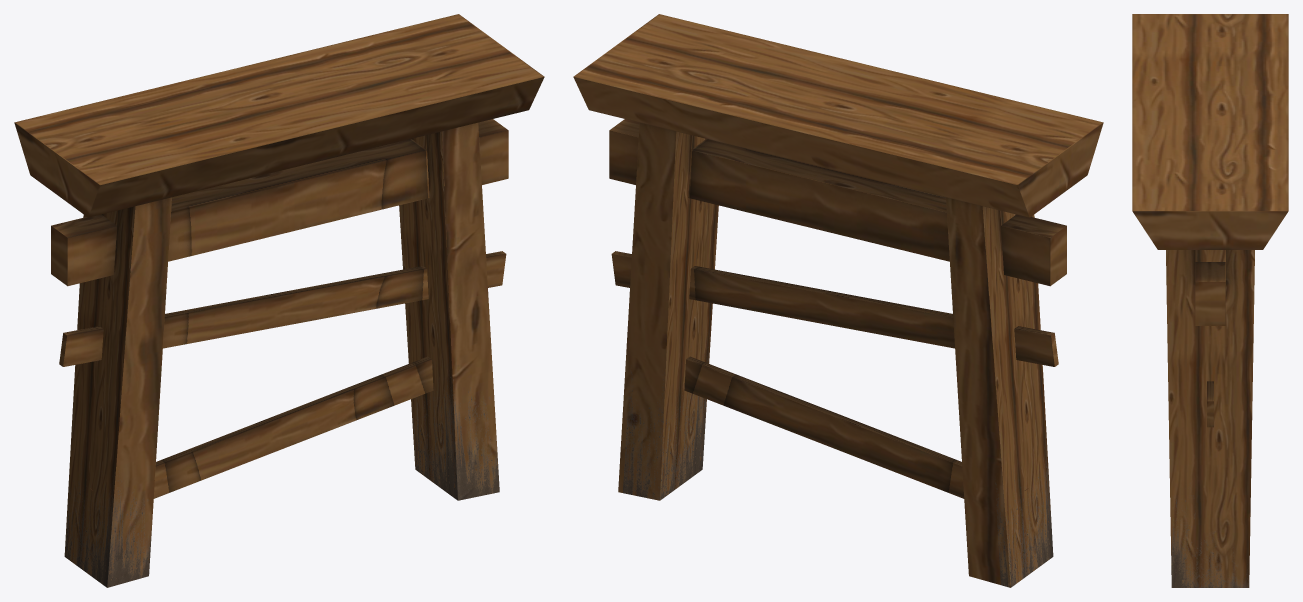
File: Wood_Support_close_destroyed.FBX
3 views of the same model, side by side, from view 1: azimuth 30°, elevation 25°; view 2: azimuth 150°, elevation 25°; view 3: azimuth 270°, elevation 25° (orthographic). The views are drawn at different scales.
Parts seen in each view (by area): view 1: Box001, Object002, Object003; view 2: Box001, Object002, Object003; view 3: Box001, Object002.
Boxes of the visible parts, x1,y1,x2,y2 form: Box001: (14,14,544,587); Object002: (59,251,506,366); Object003: (89,356,433,498); Box001: (573,14,1103,587); Object002: (611,251,1058,366); Object003: (684,356,1028,498); Box001: (1132,14,1288,587); Object002: (1207,381,1213,427).
Size of the model in its own units: 2.31 by 2.1 by 0.7688.
1 material, 1 textured.
